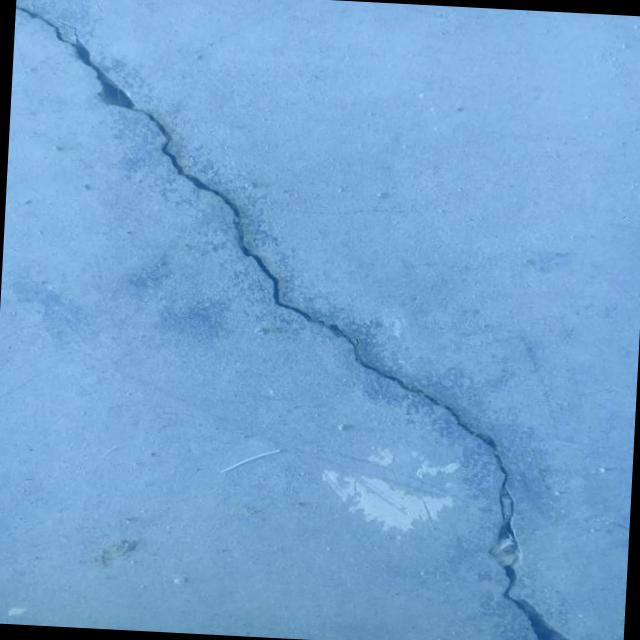crack: (0, 5, 613, 640)
